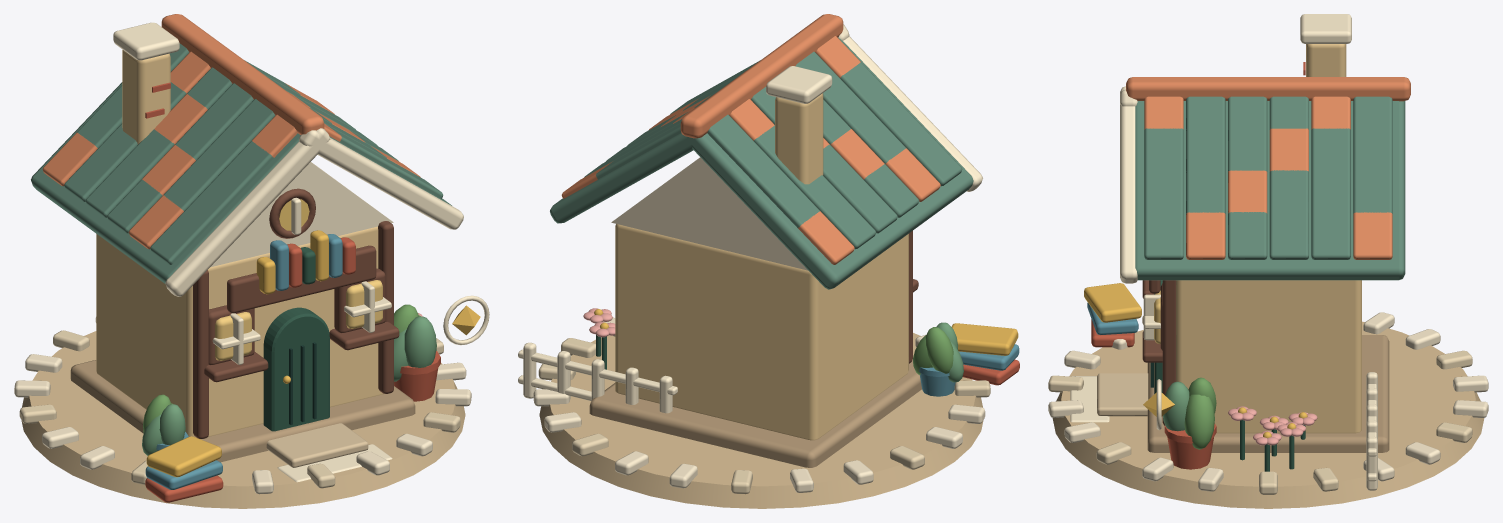
The model's file is library.glb.
3 views of the same model, side by side, from view 1: azimuth 30°, elevation 25°; view 2: azimuth 150°, elevation 25°; view 3: azimuth 270°, elevation 25° (orthographic). The views are drawn at different scales.
Visible parts, largest first — view 1: building-library, landmark-library, treasure-library; view 2: building-library, landmark-library; view 3: building-library, landmark-library, treasure-library.
Boxes of the visible parts, x1,y1,x2,y2 form: building-library: (31, 14, 463, 502); landmark-library: (14, 317, 471, 508); treasure-library: (443, 295, 489, 345); building-library: (518, 14, 1019, 467); landmark-library: (533, 317, 990, 508); building-library: (1070, 14, 1410, 490); landmark-library: (1048, 312, 1488, 508); treasure-library: (1143, 379, 1174, 430).
Size of the model in its own units: 1.54 by 1.39 by 1.53.
